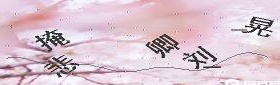chinese: (148, 34, 179, 60), (245, 12, 275, 38), (47, 53, 77, 78), (185, 47, 217, 70), (38, 28, 67, 51)
